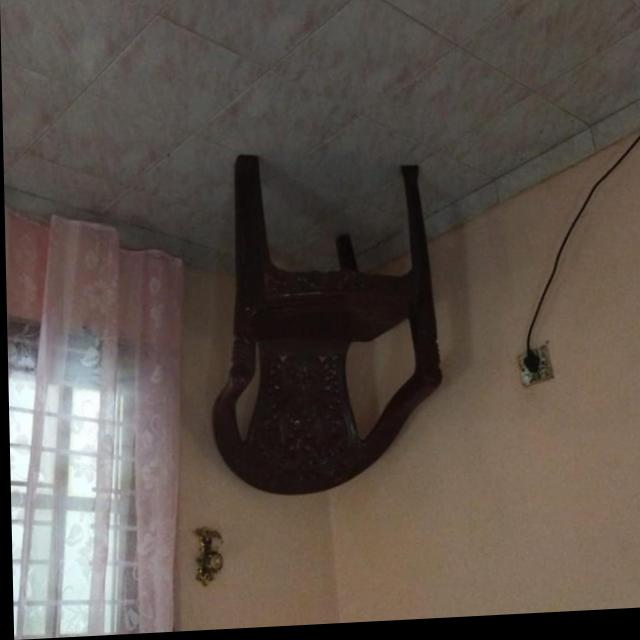Chair: (205, 149, 444, 502)
